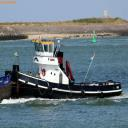tugboat: (13, 36, 124, 104)
